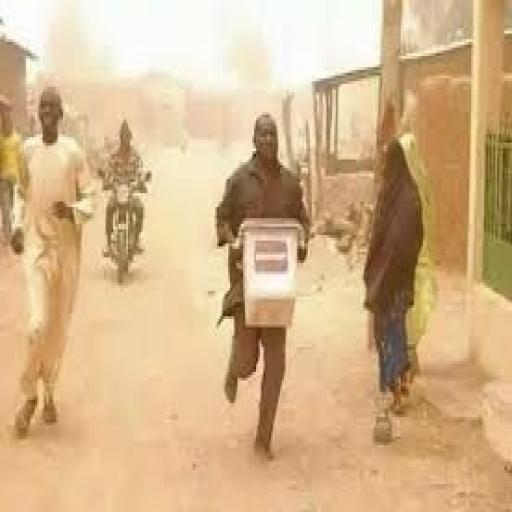running: (212, 109, 314, 465), (9, 81, 95, 439), (360, 131, 427, 445)
